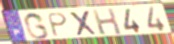4: (146, 5, 167, 32), (122, 7, 142, 34)
G: (23, 12, 51, 41)
H: (91, 7, 124, 36)
P: (47, 12, 70, 38)
X: (68, 10, 99, 37)
